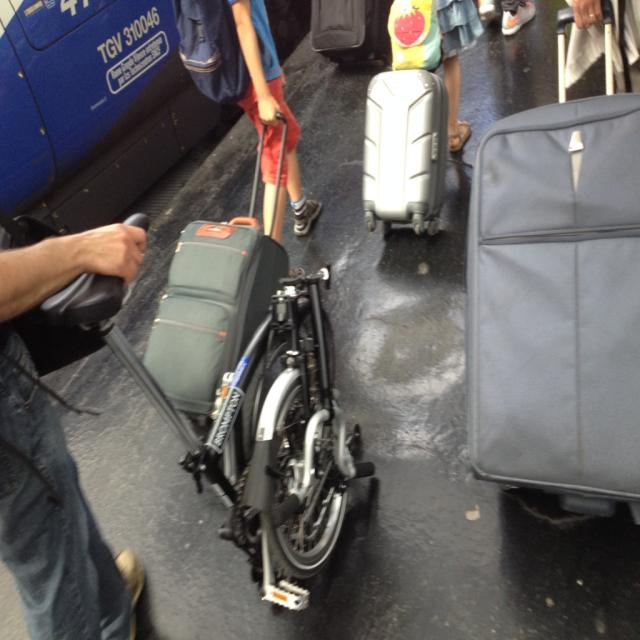car: (0, 0, 311, 257)
